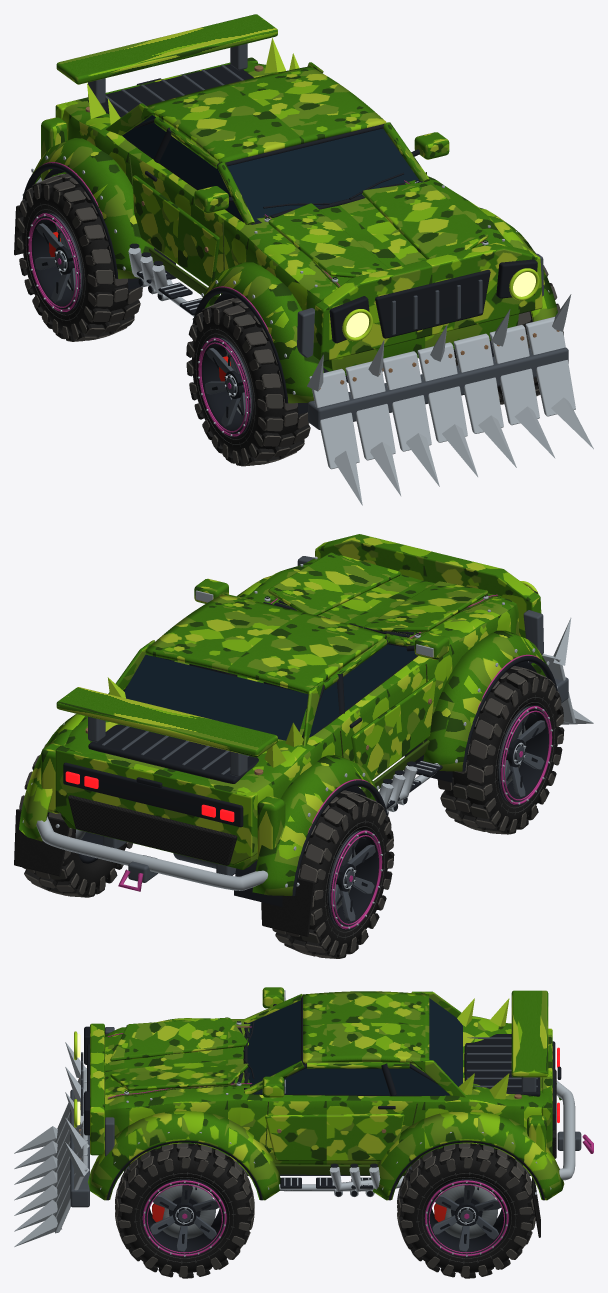
Rendered from 04_green_armor.glb.
The picture shows the model from 3 angles, top to bottom: view 1: azimuth 30°, elevation 25°; view 2: azimuth 150°, elevation 25°; view 3: azimuth 270°, elevation 25°; orthographic projection. The views are drawn at different scales.
Visible parts, largest first — view 1: Buggy_Static_Body, Wheel_RL_Geometry, Wheel_FL_Geometry; view 2: Buggy_Static_Body, Wheel_FL_Geometry, Wheel_RL_Geometry, Wheel_RR_Geometry; view 3: Buggy_Static_Body, Wheel_FR_Geometry, Wheel_RR_Geometry.
Boxes of the visible parts, x1,y1,x2,y2 form: Buggy_Static_Body: (14, 14, 593, 505); Wheel_RL_Geometry: (16, 173, 142, 341); Wheel_FL_Geometry: (186, 298, 310, 466); Buggy_Static_Body: (14, 534, 593, 936); Wheel_FL_Geometry: (437, 666, 564, 834); Wheel_RL_Geometry: (272, 790, 394, 958); Wheel_RR_Geometry: (19, 744, 132, 897); Buggy_Static_Body: (14, 987, 593, 1246); Wheel_FR_Geometry: (115, 1143, 254, 1278); Wheel_RR_Geometry: (397, 1143, 535, 1278).
Bounding box in the file's own units: 2.99 × 2.21 × 5.88.
Materials: 20 (3 with a texture image).
